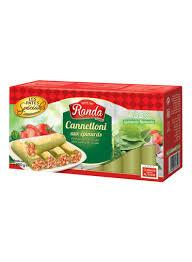Cannelloni: (8, 79, 183, 182)
